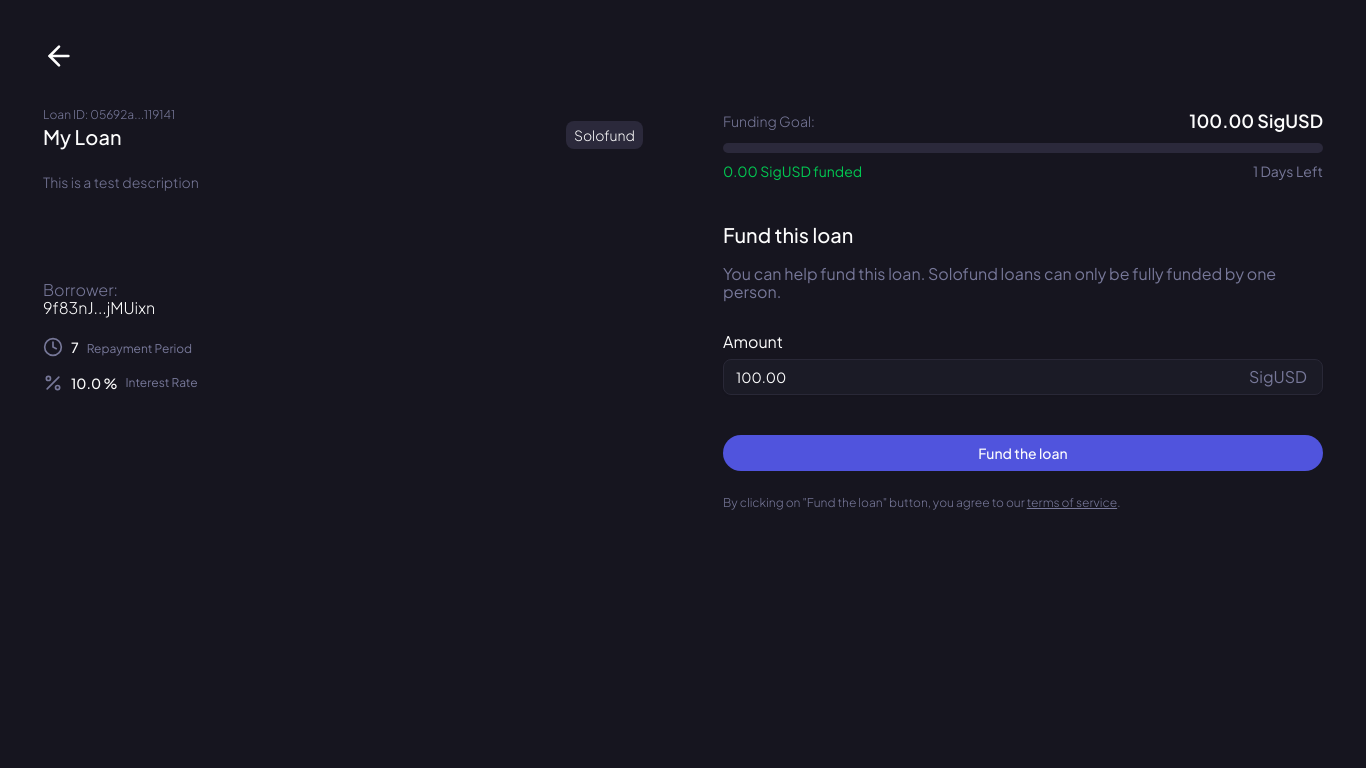
Test: LoanDetails › Solofund Loan - Funding › should show success message after funding
The image size is (1366, 768).
Click the button "Fund the loan": click(1023, 453) [723, 435, 1323, 471]
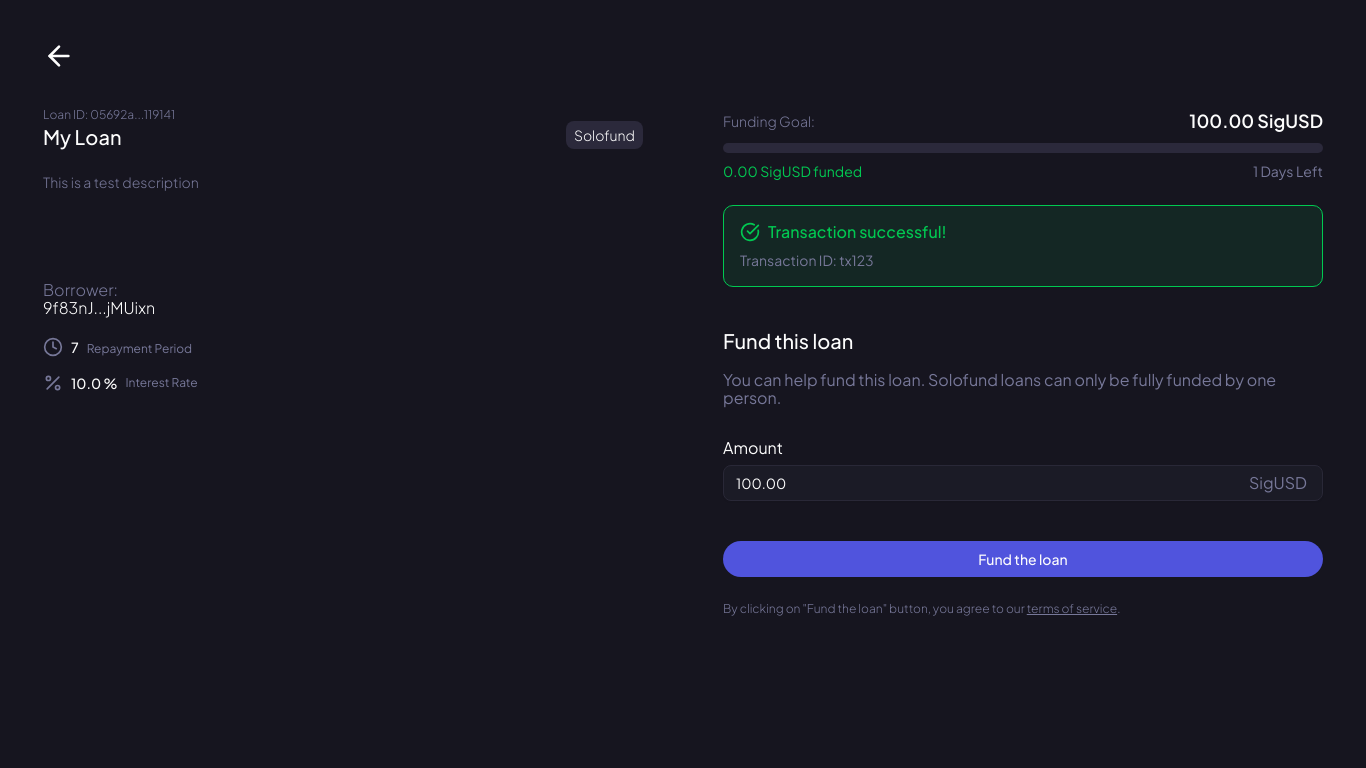
Result: the text "Transaction successful!" is shown at [768, 223, 946, 241]
